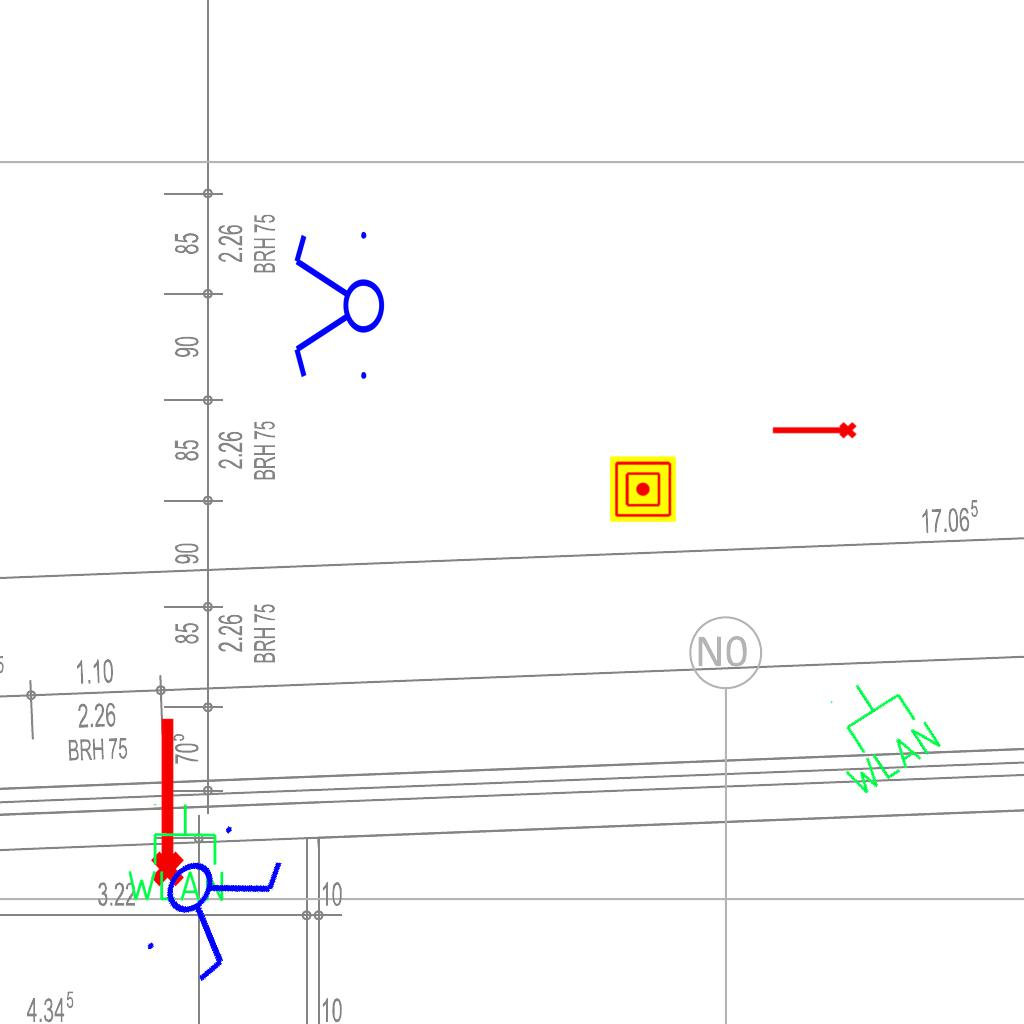ASR_Ansaugoeffnung: (142, 713, 188, 889), (770, 420, 858, 443)
NAM-Nichtautomatischer_Melder: (610, 456, 676, 522)
Serienschalter: (125, 804, 299, 998), (290, 223, 386, 391)
WLAN: (802, 659, 948, 804), (123, 801, 228, 905)
